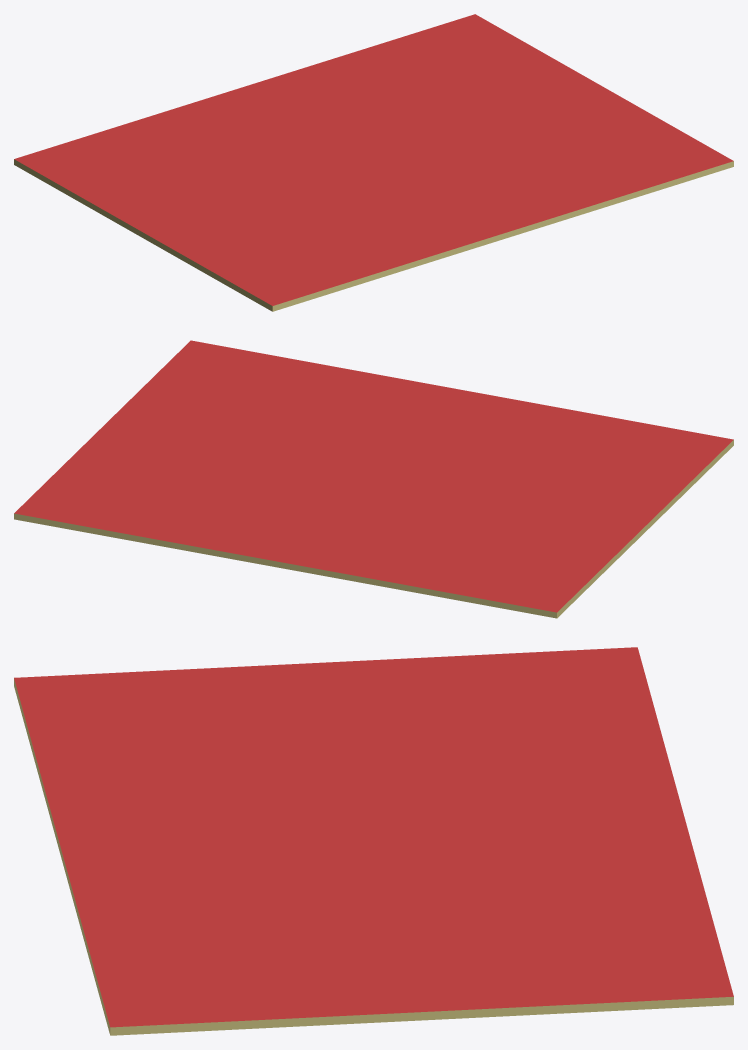
3 renders of one model, top to bottom at view 1: azimuth 30°, elevation 25°; view 2: azimuth 150°, elevation 25°; view 3: azimuth 270°, elevation 25°, orthographic. The views are drawn at different scales.
Size of the model in its own units: 9.75 by 7.8 by 0.1.
